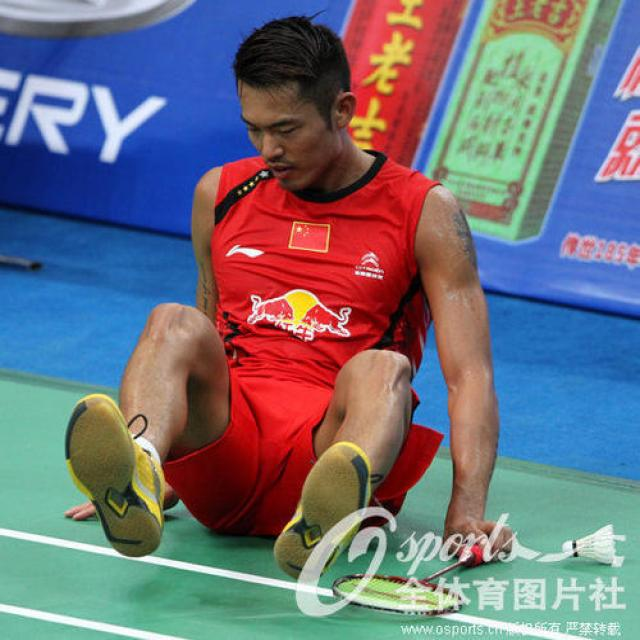fall: (80, 43, 514, 597)
